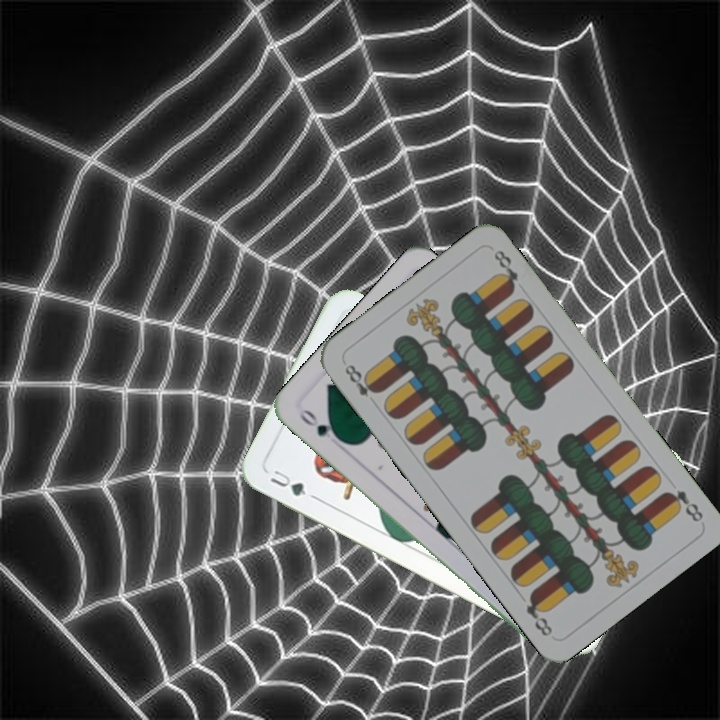E8: (660, 485, 706, 525), (340, 360, 382, 400)
GO: (294, 405, 346, 445)
GU: (266, 465, 309, 499)
